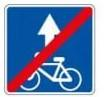road_sign: (4, 4, 95, 95)
